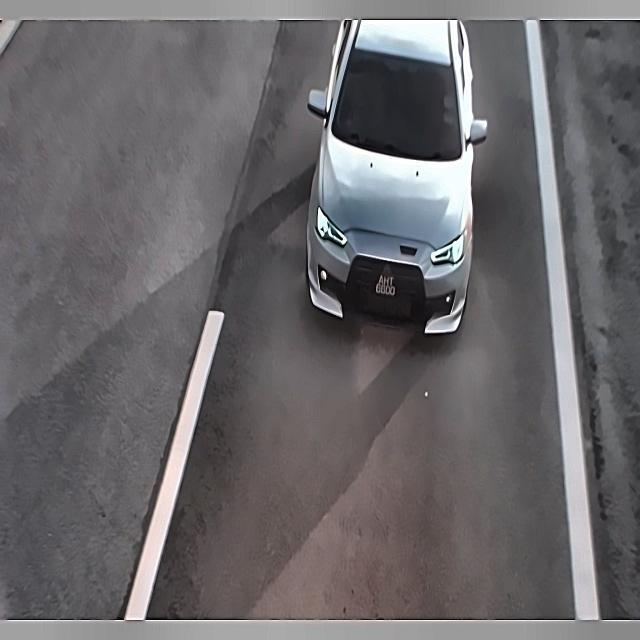car: (367, 261, 407, 312)
